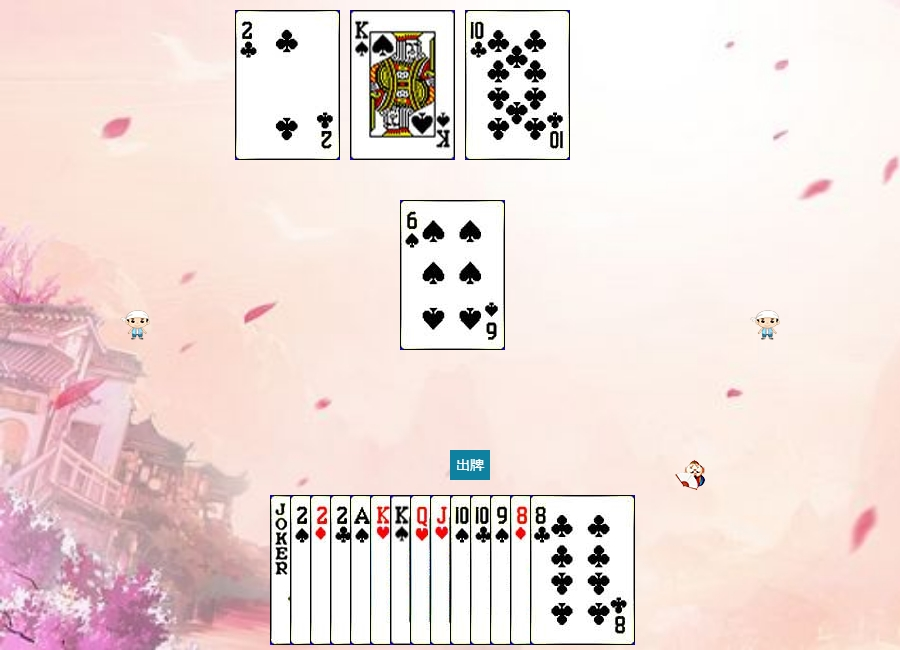10~2: (465, 10, 570, 160), (470, 495, 575, 645)
10~4: (450, 495, 555, 645)
11~3: (430, 495, 535, 645)
12~3: (410, 495, 515, 645)
13~3: (370, 495, 475, 645)
13~4: (350, 10, 455, 160), (390, 495, 495, 645)
14~4: (350, 495, 455, 645)
15~1: (310, 495, 415, 645)
15~2: (235, 10, 340, 160), (330, 495, 435, 645)
15~4: (290, 495, 395, 645)
17~3: (270, 495, 375, 645)
6~4: (400, 200, 505, 350)
8~1: (510, 495, 615, 645)
8~2: (530, 495, 635, 645)
9~4: (490, 495, 595, 645)
